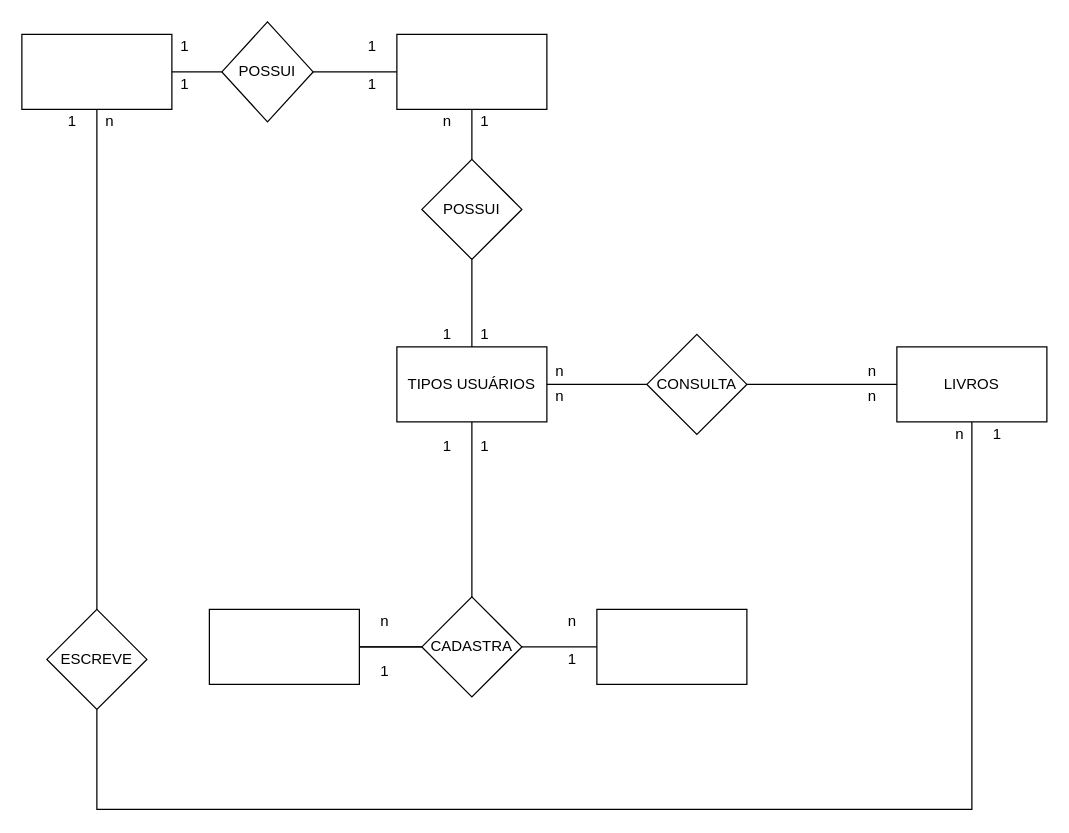
The diagram is 1069 pixels wide and 833 high, and some of its shapes have lost their labels. Here are the shapes that lost their labels. From the top down, the centre of each, then its label:
At [96,71]: "AUTOR".
At [471,71]: "USUARIOS".
At [283,646]: "INSTITUIÇÃO".
At [671,646]: "CATEGORIA DE LIVROS".
